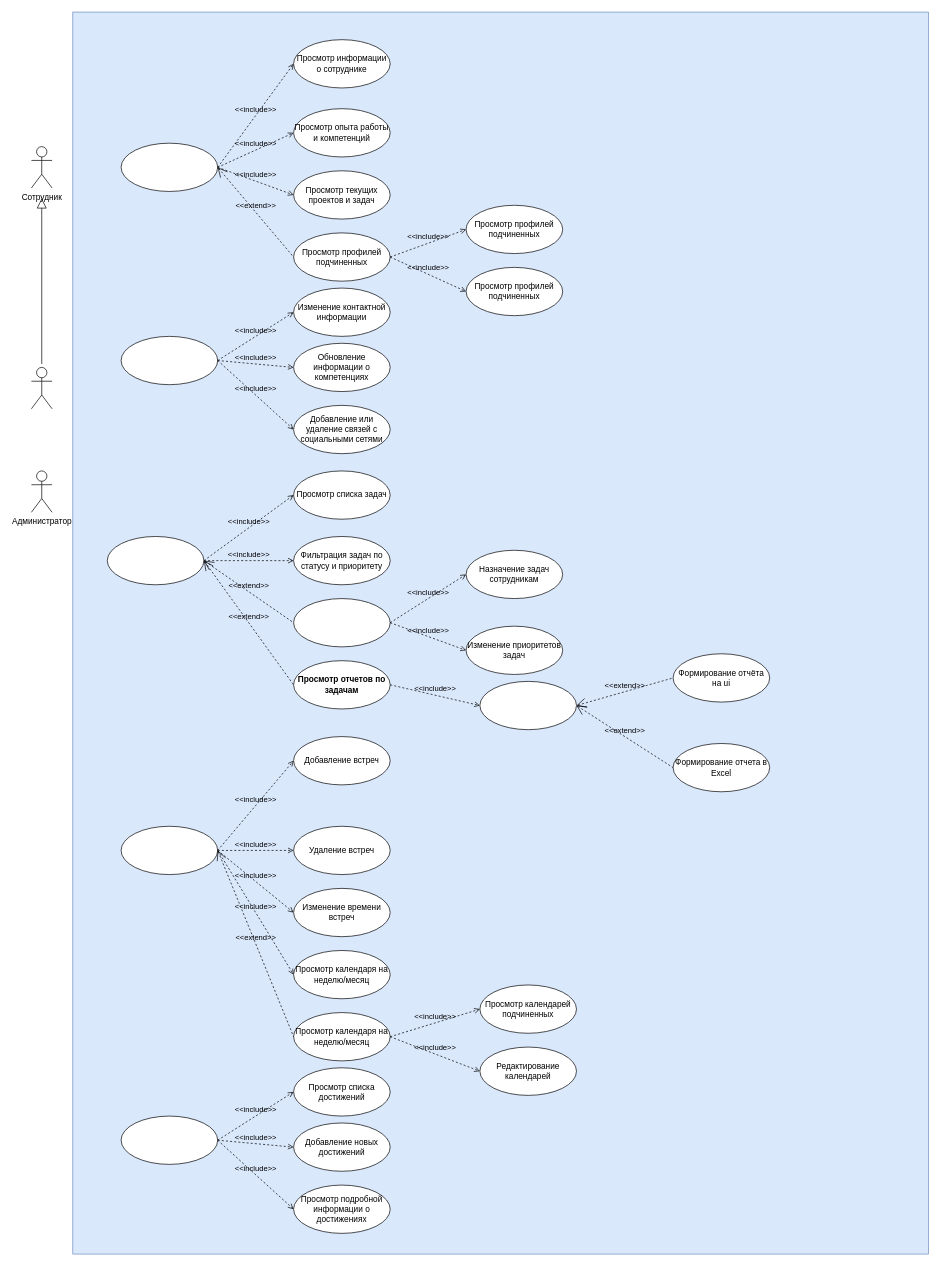
Some shapes in this 940 by 1266 pixel diagram are drawn without their labels. Here are the shapes that lost their labels. From the top down, the centre of each, then its label:
At (x=169, y=166): "Просмотр профиля".
At (x=169, y=360): "Обновление личной информации".
At (x=41, y=388): "Руководитель".
At (x=155, y=560): "Просмотр текущих задач".
At (x=341, y=622): "Управление задачами команды".
At (x=527, y=705): "Генерация отчетов по статусу задач".
At (x=169, y=850): "Управление календарем встреч".
At (x=169, y=1139): "Просмотр личных достижений".
